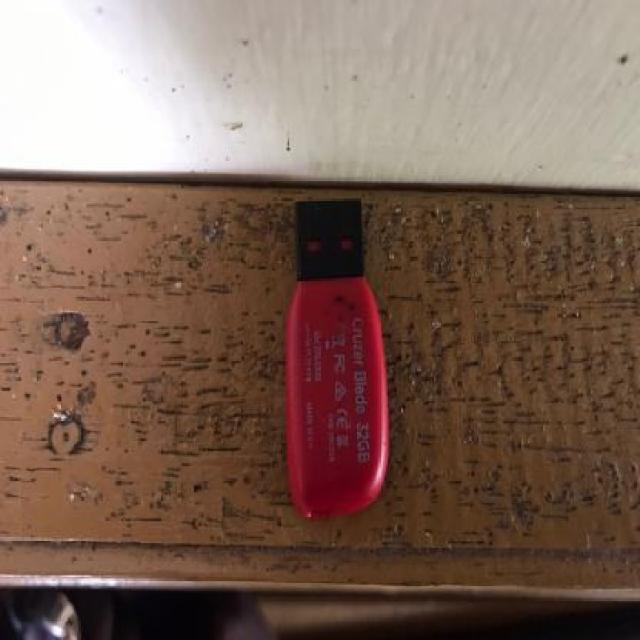Flashdisk: (282, 183, 393, 528)
